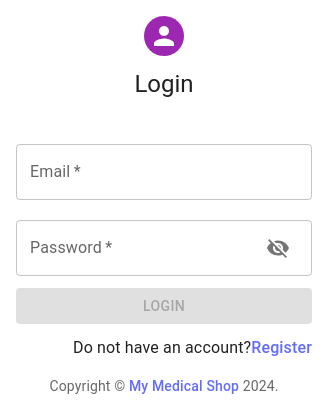
Test: Login › Password visibility for password
Click the button with test id "show-password" at (278, 248), box [258,228,298,268]
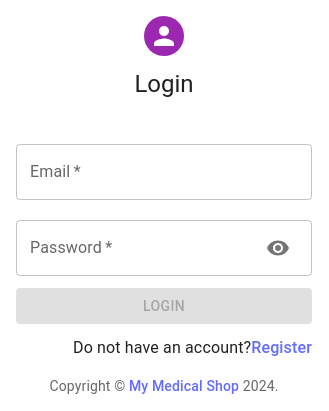
Result: the icon with test id "VisibilityIcon" is shown at [266,236,290,260]
